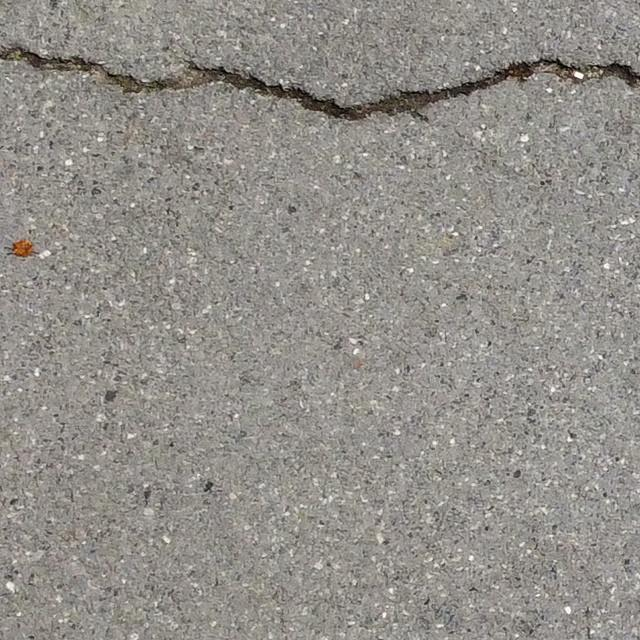TransverseCrack: (1, 46, 640, 125)
